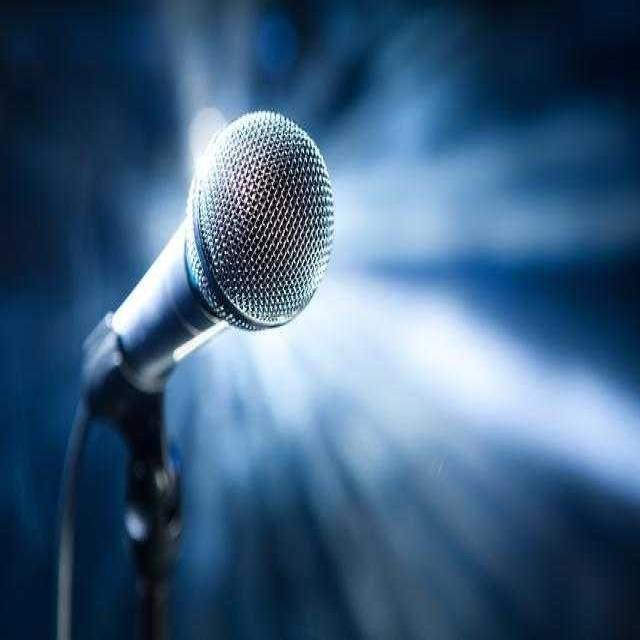microphone: (101, 105, 337, 405)
